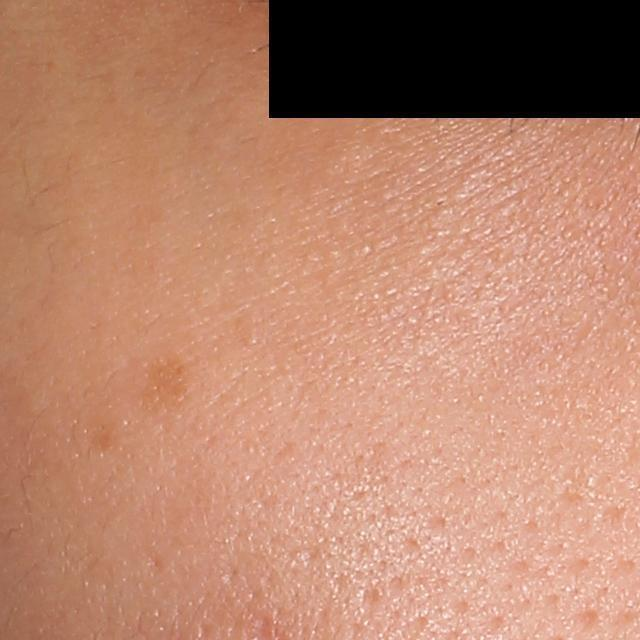melasma: (140, 350, 193, 428)
